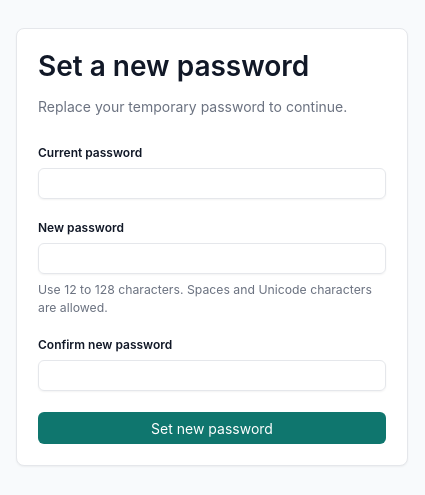
Test: required password change page › announces and associates the 12-to-128-character requirement
Type "temporary phrase 2026!" into the password field labelled "Current password". click: coordinates (212, 184)
box: [38,168,386,199]
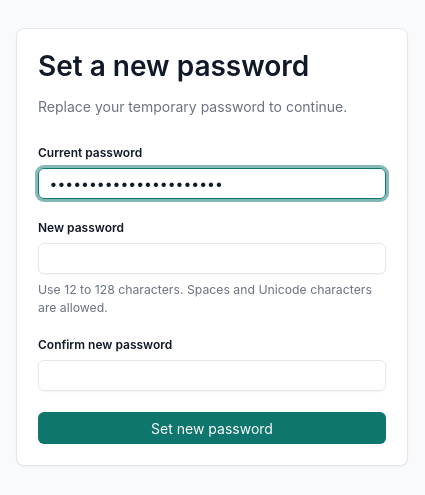
Type "too short" into the password field labelled "New password". click: coordinates (212, 259)
box: [38,243,386,274]
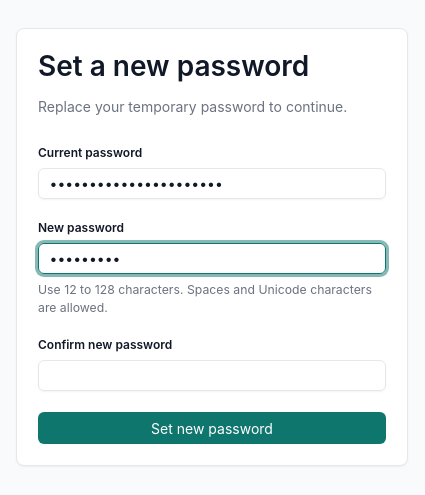
Type "too short" into the password field labelled "Confirm new password". click: coordinates (212, 376)
box: [38,360,386,392]
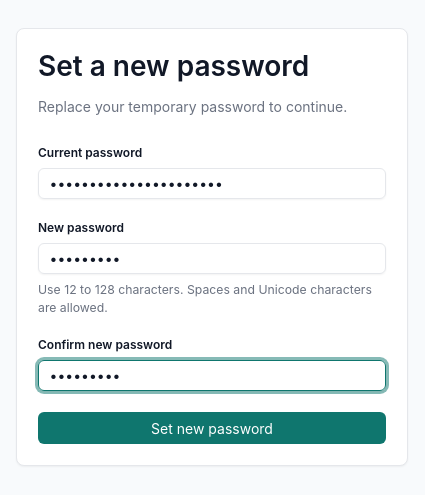
Click the button "Set new password". click: coordinates (212, 428)
box: [38,412,386,444]
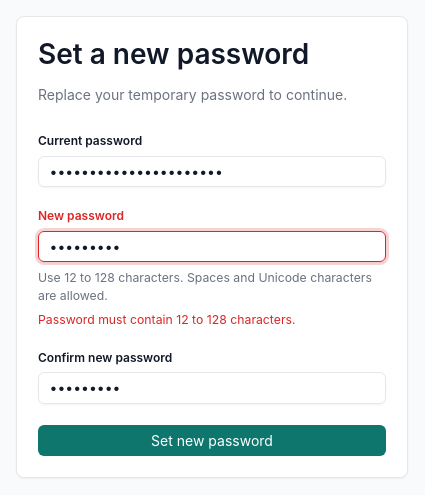
Expected: the message reads "Password must contain 12 to 128 characters.", [38,312,296,327]
